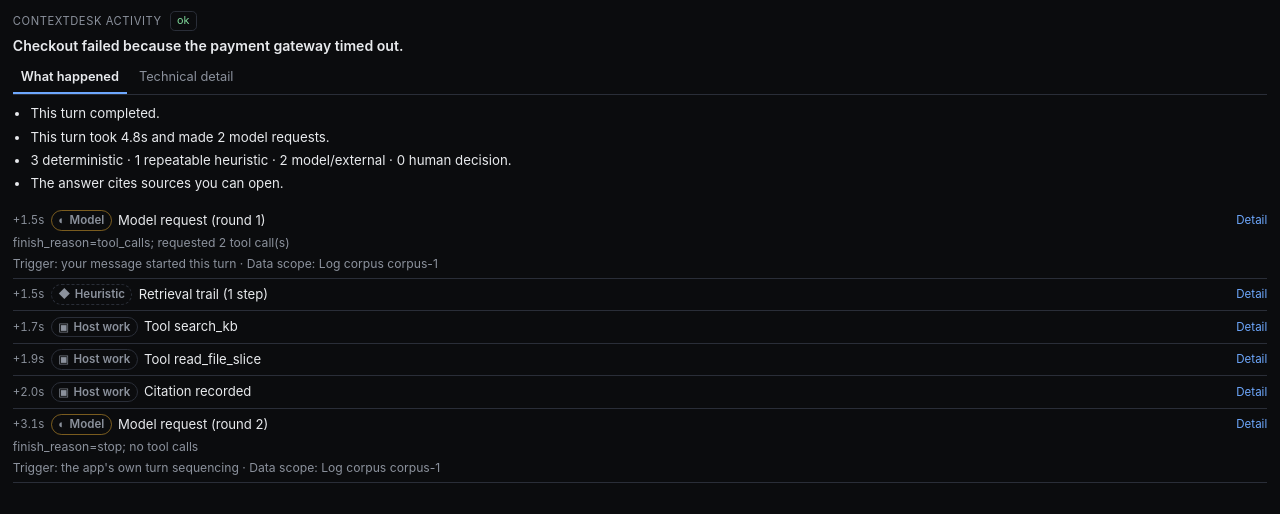
a multi-turn chat with tool activity › surfaces the capped-context prefix rather than implying a full capture
The image size is (1280, 514).
Click the tab with test id "activity-tab-technical": (186, 78) [131,62,241,94]
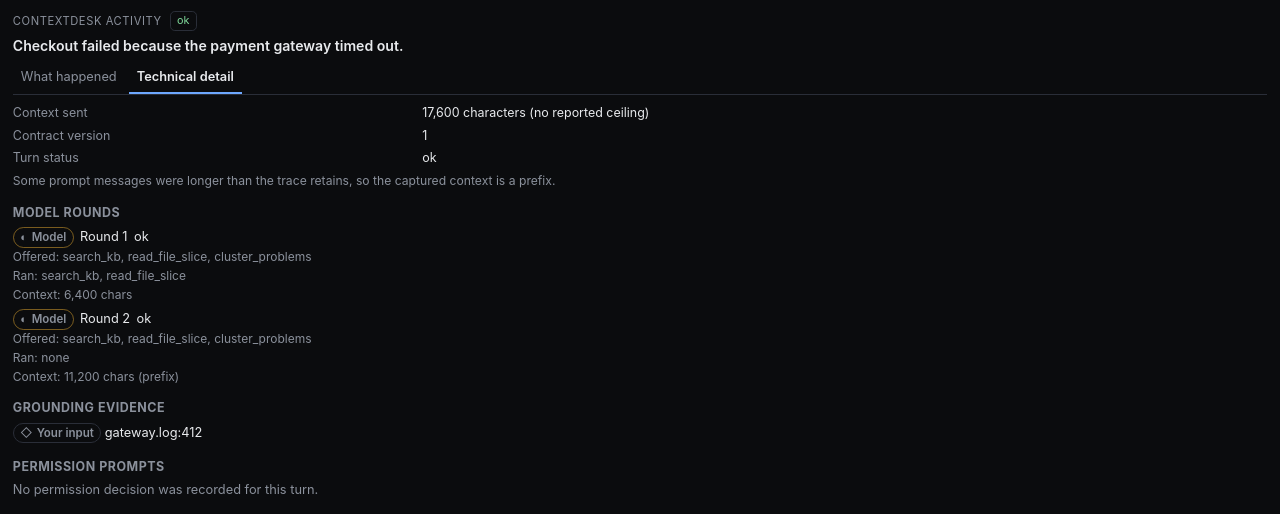
Result: the panel with test id "activity-panel-technical" shows "prefix" at [13,172,555,188]
Result: the panel with test id "activity-panel-technical" shows "17,600 characters" at [422,106,526,120]
Result: the panel with test id "activity-panel-technical" shows "no reported ceiling" at [526,106,649,120]
